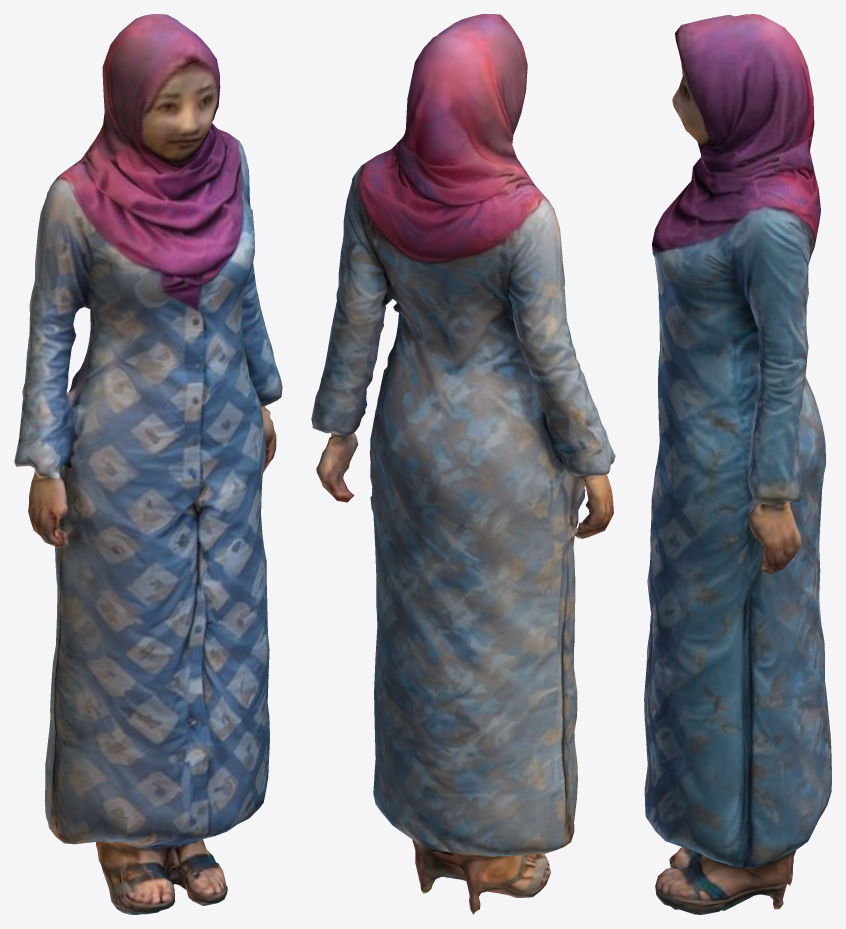
File: c_malay.glb
3 views of the same model, side by side, from view 1: azimuth 30°, elevation 25°; view 2: azimuth 150°, elevation 25°; view 3: azimuth 270°, elevation 25° (orthographic). The views are drawn at different scales.
Parts seen in each view (by area): view 1: Mesh_0_Material_0_0; view 2: Mesh_0_Material_0_0; view 3: Mesh_0_Material_0_0.
Boxes of the visible parts, x1,y1,x2,y2 form: Mesh_0_Material_0_0: (14,14,282,914); Mesh_0_Material_0_0: (311,14,615,914); Mesh_0_Material_0_0: (644,14,831,914).
Bounding box in the file's own units: 0.3995 × 1.2 × 0.2303.
Materials: 1 (1 with a texture image).
